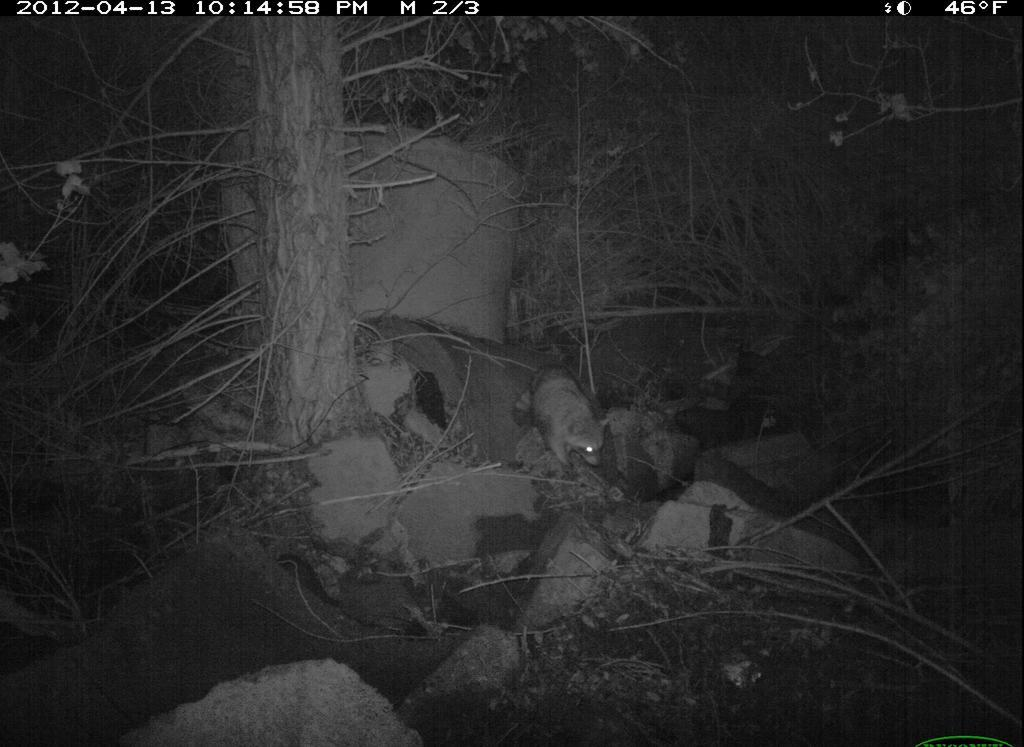raccoon: (511, 358, 616, 488)
